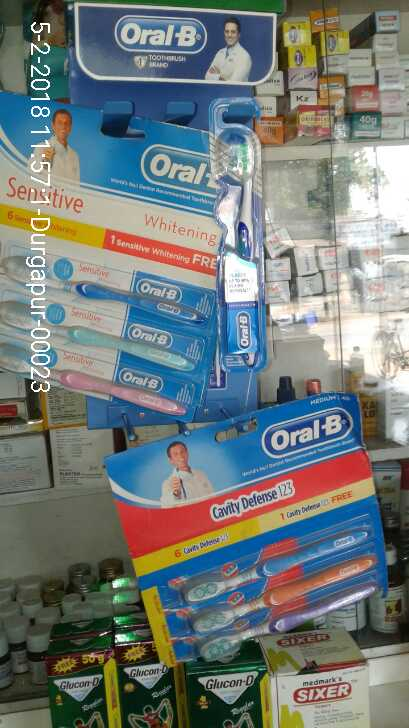oralb: (1, 245, 208, 424), (181, 525, 384, 660), (210, 124, 282, 367)
